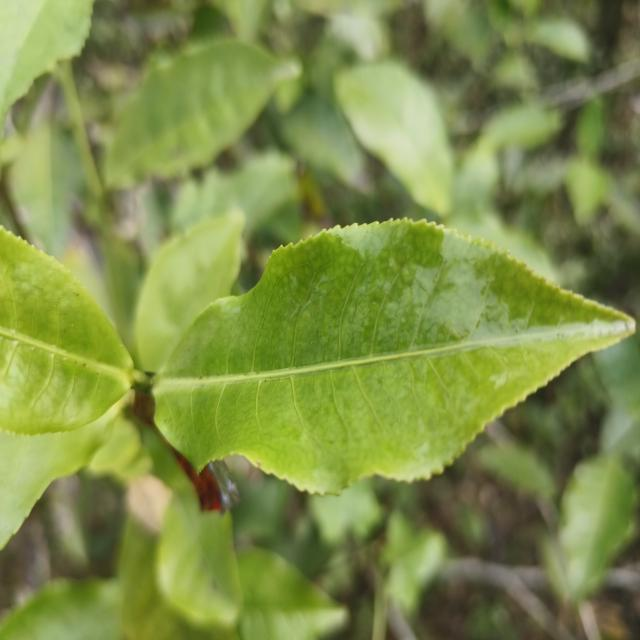Leaf: (155, 219, 635, 493), (104, 39, 300, 188), (0, 227, 134, 436), (334, 60, 453, 215), (135, 209, 245, 372), (0, 409, 116, 549), (0, 0, 93, 125), (156, 494, 242, 628), (560, 454, 636, 600), (237, 548, 348, 640), (10, 121, 82, 260), (0, 579, 121, 640), (480, 105, 561, 150), (564, 156, 609, 223)
